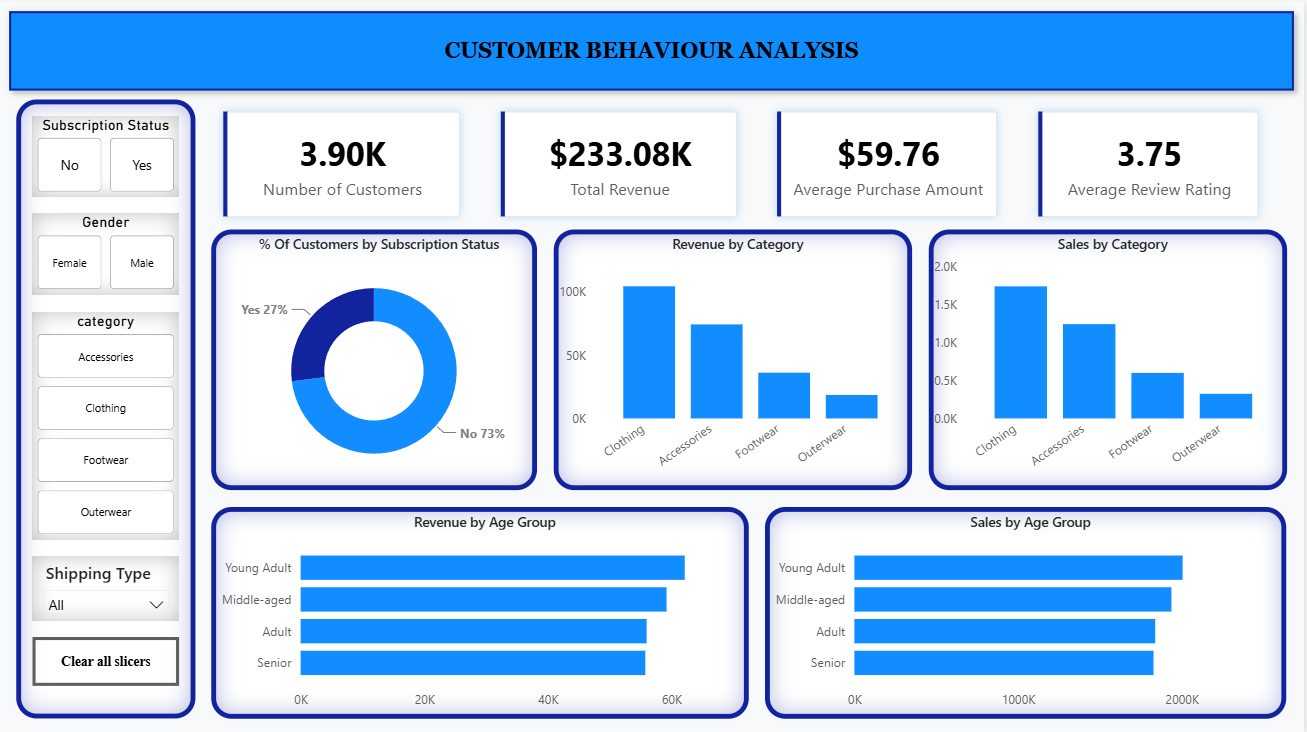

This screenshot's page, from the dashboard's own definition file:
{"tool":"powerbi","page":{"name":"Page 1","canvas":[1280,720],"ordinal":0},"visuals":[{"type":"shape","box":[0,0,1280,96],"z":0},{"type":"donutChart","title":"% Of Customers by Subscription Status","fields":{"Y":["customer_behavior customer.Number of Customers"],"Category":["customer_behavior customer.subscription_status"]},"box":[208,224,320,256],"z":1000},{"type":"shape","box":[16,96,176,608],"z":2000},{"type":"cardVisual","fields":{"Data":["customer_behavior customer.Average Purchase Amount"]},"box":[736,80,272,160],"z":3000},{"type":"cardVisual","fields":{"Data":["customer_behavior customer.Average Review Rating"]},"box":[992,80,272,160],"z":4000},{"type":"clusteredColumnChart","title":"Revenue by Category","fields":{"Category":["customer_behavior customer.category"],"Y":["Sum(customer_behavior customer.purchase_amount)"]},"box":[544,224,352,256],"z":5000},{"type":"clusteredBarChart","title":"Sales by Age Group","fields":{"Y":["Sum(customer_behavior customer.customer_id)"],"Category":["customer_behavior customer.age_group"]},"box":[752,496,512,208],"z":6000},{"type":"clusteredBarChart","title":"Revenue by Age Group","fields":{"Category":["customer_behavior customer.age_group"],"Y":["Sum(customer_behavior customer.purchase_amount)"]},"box":[208,496,528,208],"z":7000},{"type":"clusteredColumnChart","title":"Sales  by Category","fields":{"Category":["customer_behavior customer.category"],"Y":["CountNonNull(customer_behavior customer.customer_id)"]},"box":[912,224,352,256],"z":8000},{"type":"advancedSlicerVisual","title":"Subscription Status","fields":{"Values":["customer_behavior customer.subscription_status"]},"box":[32,112,144,80],"z":9000},{"type":"advancedSlicerVisual","title":"Gender","fields":{"Values":["customer_behavior customer.gender"]},"box":[32,208,144,80],"z":10000},{"type":"advancedSlicerVisual","fields":{"Values":["customer_behavior customer.category"]},"box":[32,304,144,224],"z":11000},{"type":"slicer","fields":{"Values":["customer_behavior customer.shipping_type"]},"box":[32,544,144,64],"z":12000},{"type":"actionButton","box":[32,624,144,48],"z":13000},{"type":"cardVisual","fields":{"Data":["Sum(customer_behavior customer.purchase_amount)"]},"box":[464,80,288,160],"z":14000},{"type":"cardVisual","fields":{"Data":["customer_behavior customer.Number of Customers"]},"box":[192,80,288,160],"z":15000}]}

Visuals, with their boxes in screenshot pixels (x1, y1, x2, y2), scaled from the page's 1280x720 canvas onto the 1307x732 screenshot:
shape: [x1=0, y1=0, x2=1306, y2=98]
"% Of Customers by Subscription Status" donutChart: [x1=212, y1=228, x2=539, y2=488]
shape: [x1=16, y1=98, x2=196, y2=716]
cardVisual - customer_behavior customer.Average Purchase Amount: [x1=752, y1=81, x2=1029, y2=244]
cardVisual - customer_behavior customer.Average Review Rating: [x1=1013, y1=81, x2=1291, y2=244]
"Revenue by Category" clusteredColumnChart: [x1=555, y1=228, x2=915, y2=488]
"Sales by Age Group" clusteredBarChart: [x1=768, y1=504, x2=1291, y2=716]
"Revenue by Age Group" clusteredBarChart: [x1=212, y1=504, x2=752, y2=716]
"Sales  by Category" clusteredColumnChart: [x1=931, y1=228, x2=1291, y2=488]
"Subscription Status" advancedSlicerVisual: [x1=33, y1=114, x2=180, y2=195]
"Gender" advancedSlicerVisual: [x1=33, y1=211, x2=180, y2=293]
advancedSlicerVisual - customer_behavior customer.category: [x1=33, y1=309, x2=180, y2=537]
slicer - customer_behavior customer.shipping_type: [x1=33, y1=553, x2=180, y2=618]
actionButton: [x1=33, y1=634, x2=180, y2=683]
cardVisual - Sum(customer_behavior customer.purchase_amount): [x1=474, y1=81, x2=768, y2=244]
cardVisual - customer_behavior customer.Number of Customers: [x1=196, y1=81, x2=490, y2=244]
